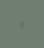eight: (19, 19, 22, 28)
